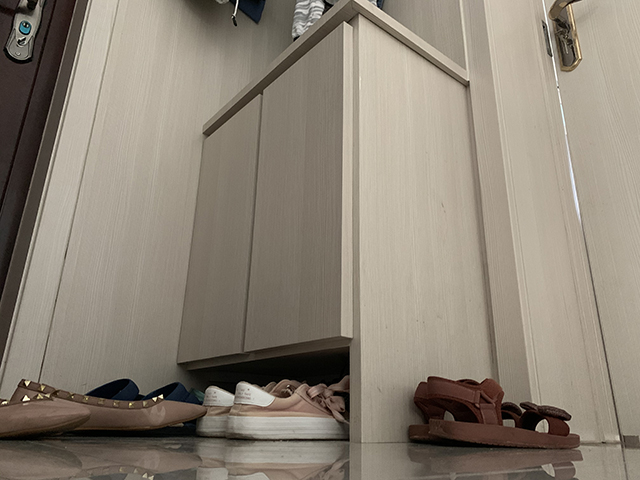cabinet: (175, 1, 498, 447)
